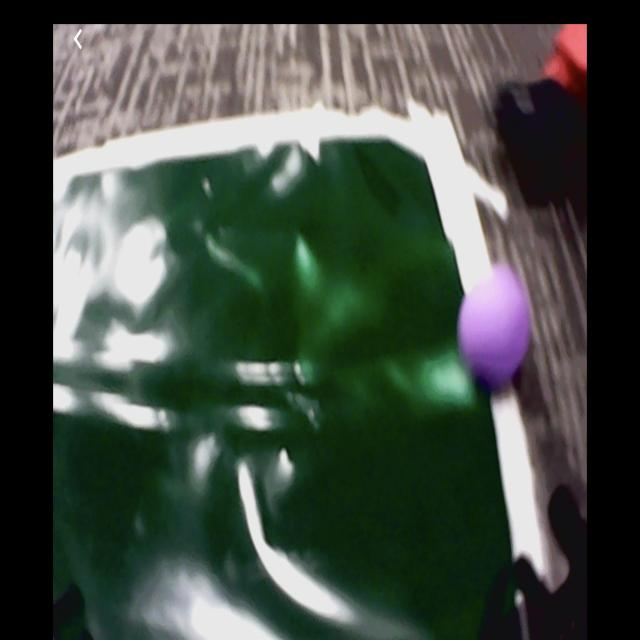ball: (459, 270, 531, 384)
